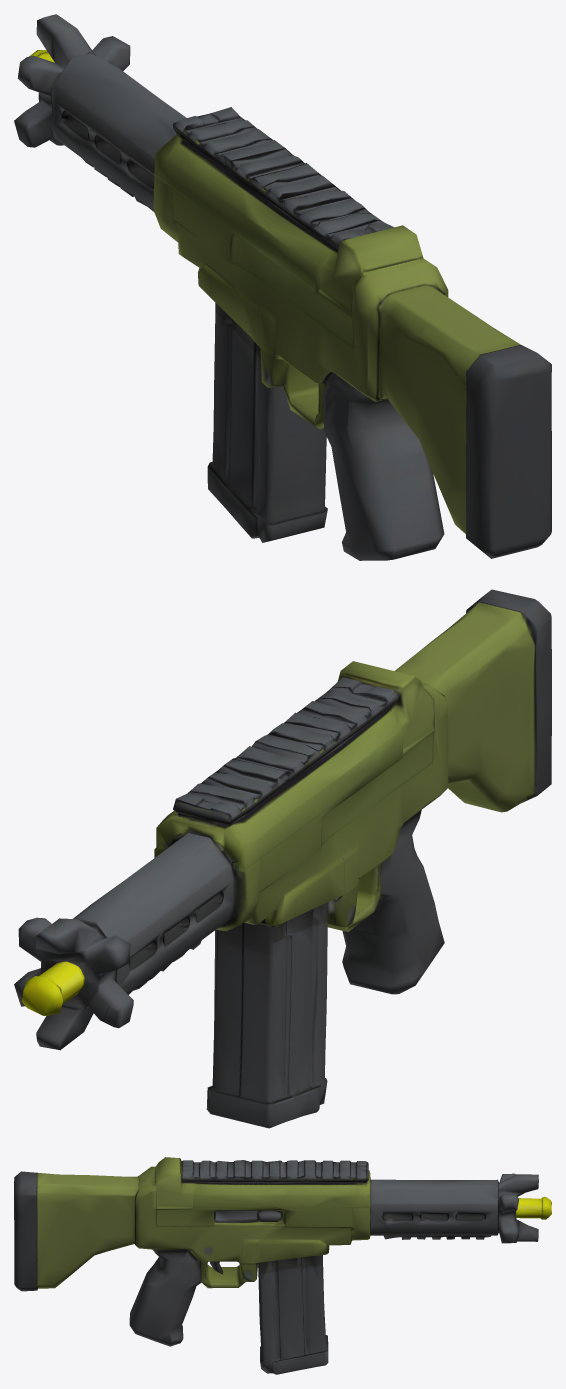
The model's file is trident_tripo_raw.glb.
3 renders of one model, top to bottom at view 1: azimuth 30°, elevation 25°; view 2: azimuth 150°, elevation 25°; view 3: azimuth 270°, elevation 25°, orthographic. The views are drawn at different scales.
Visible parts, largest first — view 1: tripo_node_cc604d8d-946e-485a-bb37-5382b0c1c228; view 2: tripo_node_cc604d8d-946e-485a-bb37-5382b0c1c228; view 3: tripo_node_cc604d8d-946e-485a-bb37-5382b0c1c228.
Boxes of the visible parts, x1,y1,x2,y2 form: tripo_node_cc604d8d-946e-485a-bb37-5382b0c1c228: [14, 14, 551, 560]; tripo_node_cc604d8d-946e-485a-bb37-5382b0c1c228: [14, 589, 551, 1128]; tripo_node_cc604d8d-946e-485a-bb37-5382b0c1c228: [14, 1157, 551, 1374].
Size of the model in its own units: 0.1309 by 0.412 by 1.
Materials: 1 (1 with a texture image).
